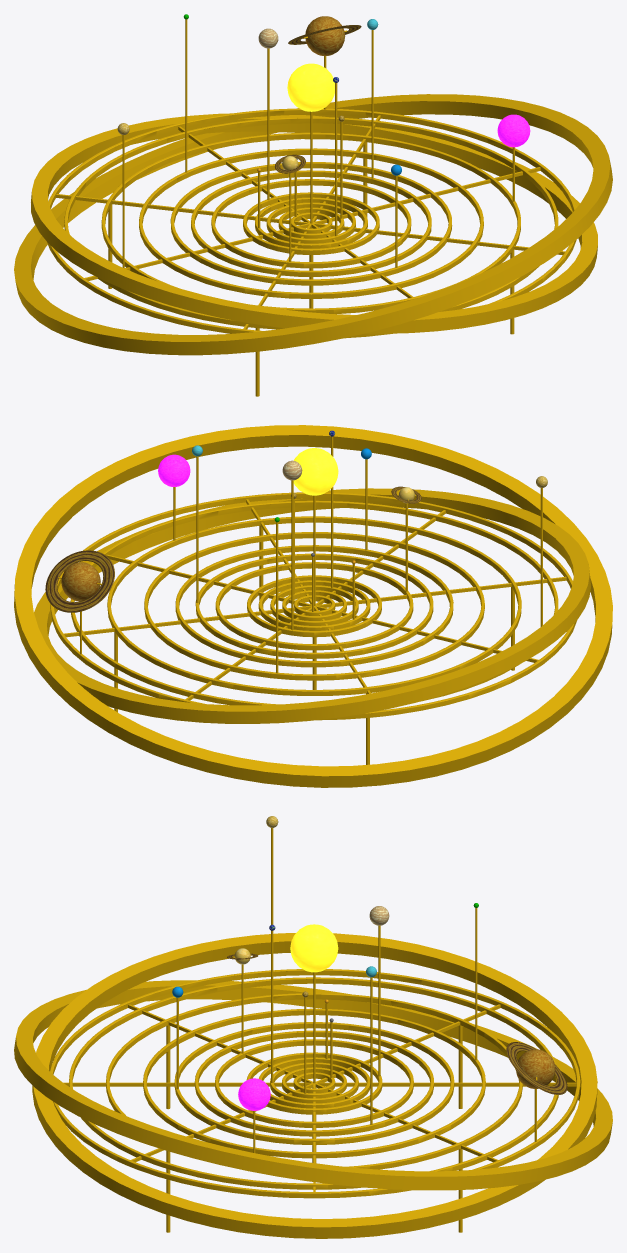
File: Planetarium 2.0.glb
3 views of the same model, one above another, from view 1: azimuth 30°, elevation 25°; view 2: azimuth 150°, elevation 25°; view 3: azimuth 270°, elevation 25° (orthographic).
Parts seen in each view (by area): view 1: Planetarium.001, Circle.012, Circle.013, Sphere.025, Sphere.014, Sphere.015; view 2: Planetarium.001, Circle.012, Circle.013, Torus.002, Sphere.025, Sphere.014, Sphere.015; view 3: Planetarium.001, Circle.013, Circle.012, Sphere.025, Sphere.014, Torus.002, Sphere.015.
Boxes of the visible parts, x1,y1,x2,y2 form: Planetarium.001: [47, 19, 576, 338]; Circle.012: [14, 94, 612, 355]; Circle.013: [31, 113, 597, 333]; Sphere.025: [287, 63, 334, 111]; Sphere.014: [305, 16, 345, 55]; Sphere.015: [497, 114, 530, 147]; Planetarium.001: [50, 436, 576, 720]; Circle.012: [14, 425, 612, 787]; Circle.013: [34, 488, 590, 723]; Torus.002: [45, 550, 114, 612]; Sphere.025: [293, 448, 338, 495]; Sphere.014: [61, 562, 100, 601]; Sphere.015: [158, 454, 190, 486]; Planetarium.001: [50, 828, 580, 1198]; Circle.013: [32, 933, 597, 1238]; Circle.012: [14, 980, 612, 1190]; Sphere.025: [290, 924, 338, 972]; Sphere.014: [516, 1049, 555, 1088]; Torus.002: [506, 1042, 567, 1094]; Sphere.015: [238, 1078, 270, 1110].
Size of the model in its own units: 50.24 by 23.9 by 50.22.
15 materials, 15 textured.
